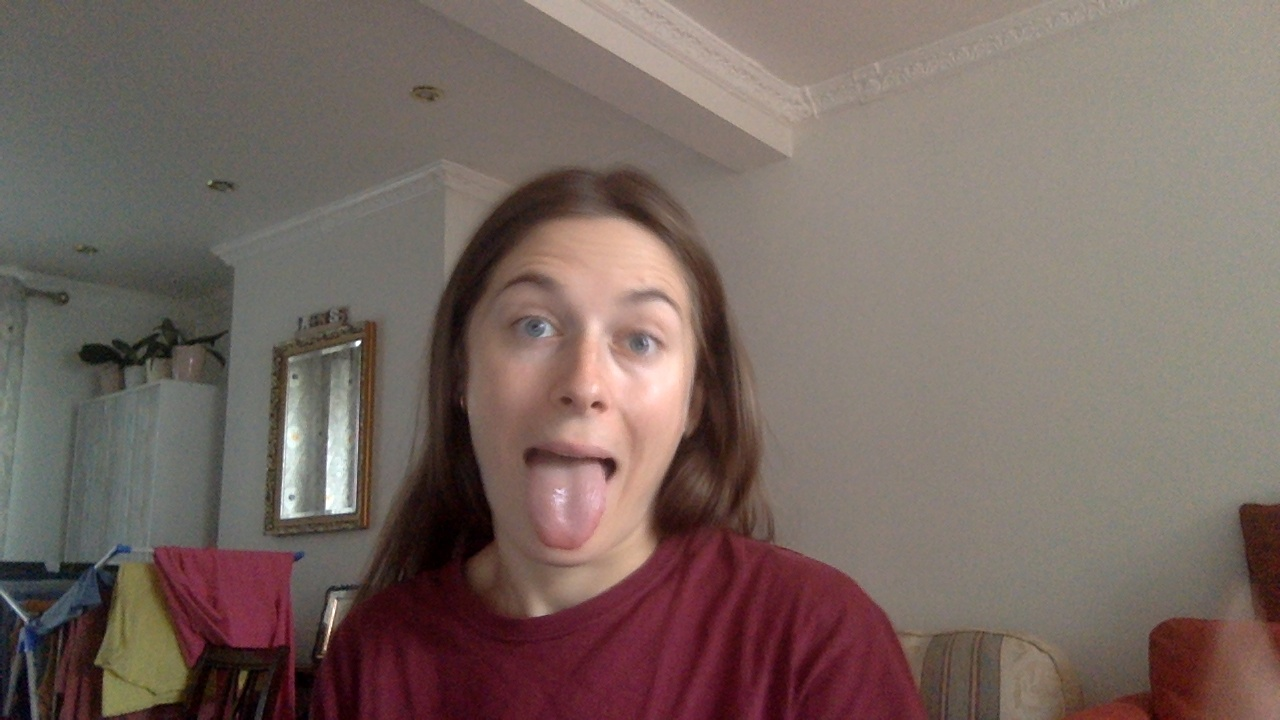tongue: (515, 427, 621, 560)
